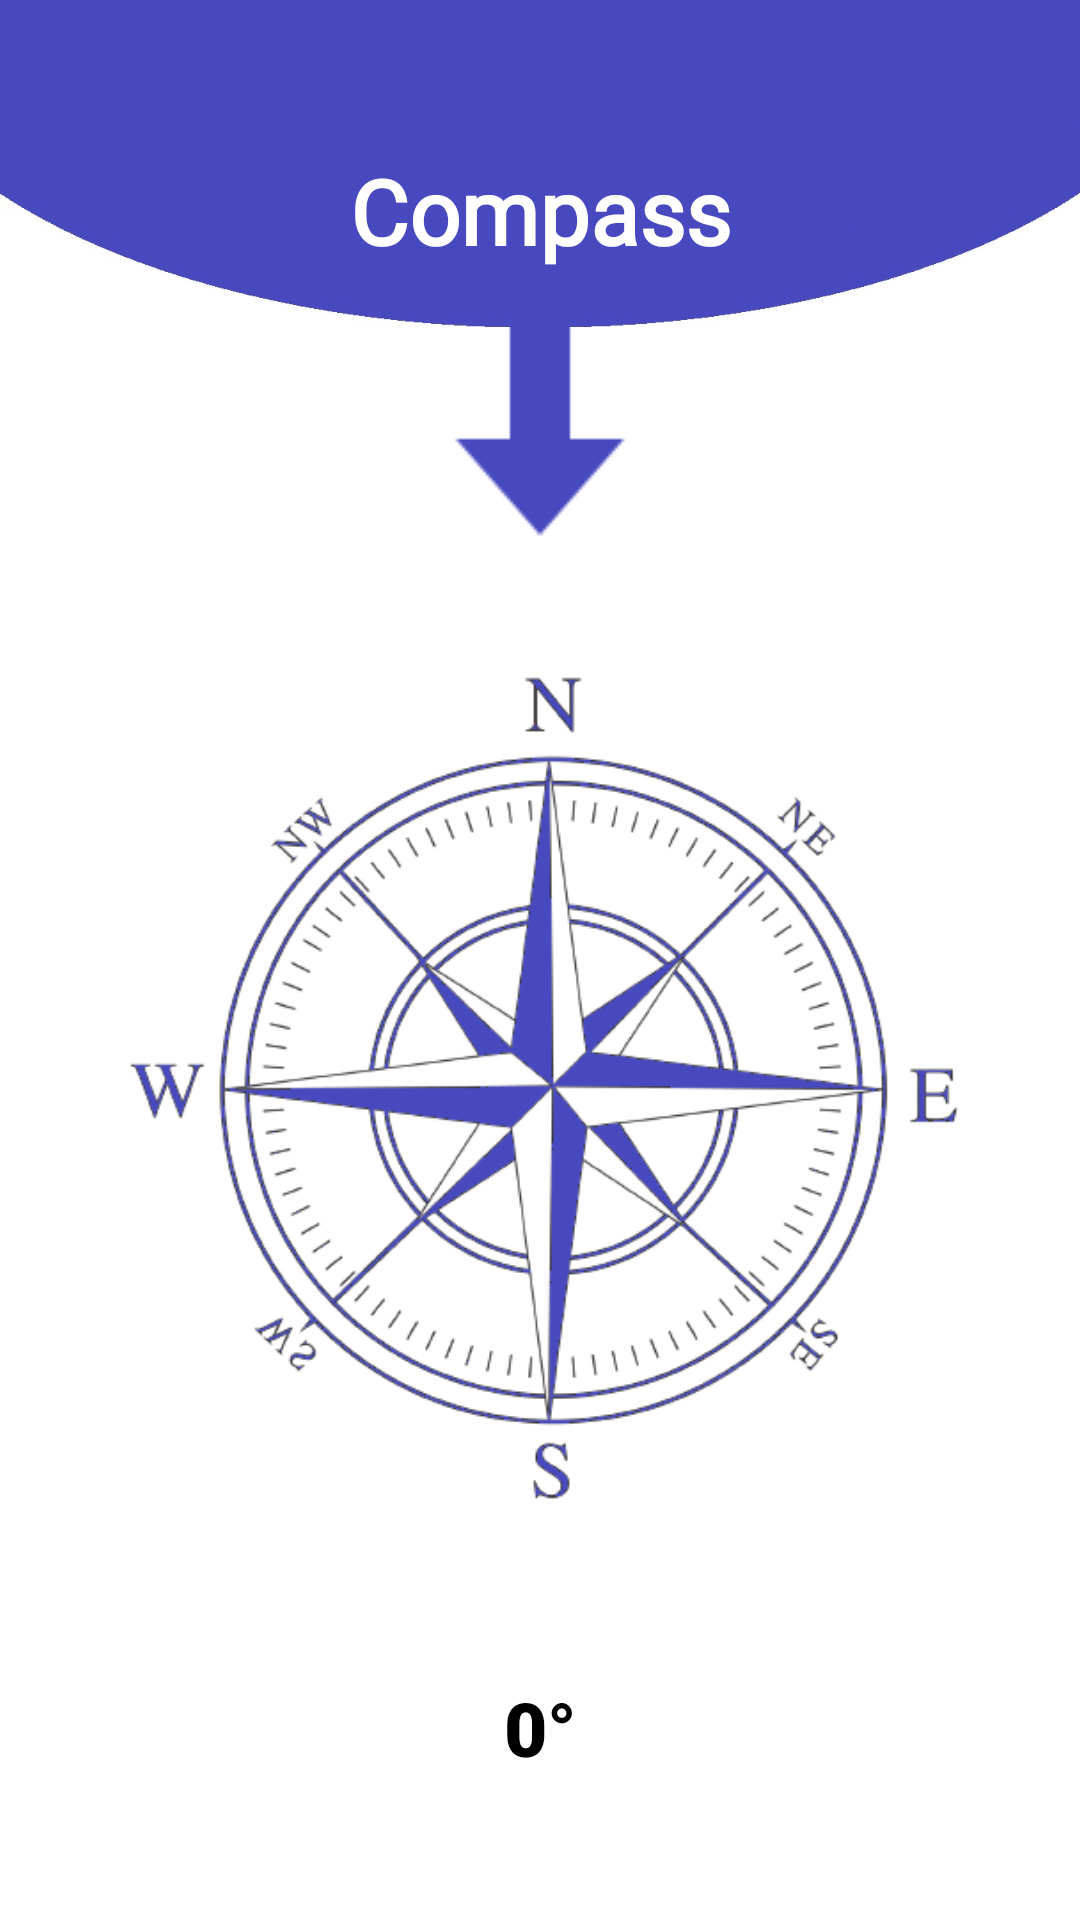

Screen size 1080px x 1920px. Icon name, then its center in pixels as [x,y]:
downarrow: [540,403]
